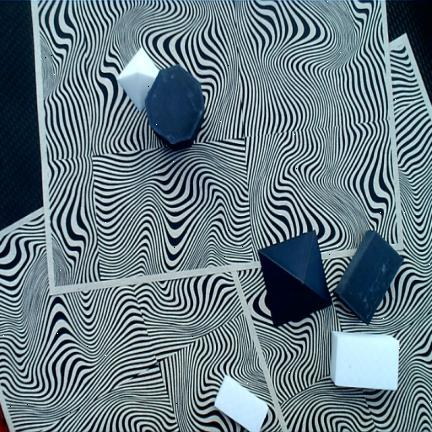Paralelepipedo: (329, 330, 399, 390), (214, 376, 269, 432)
Piramide: (259, 232, 331, 326), (117, 47, 159, 111)
Prisma_hexagonal: (333, 229, 402, 325), (145, 66, 205, 152)
